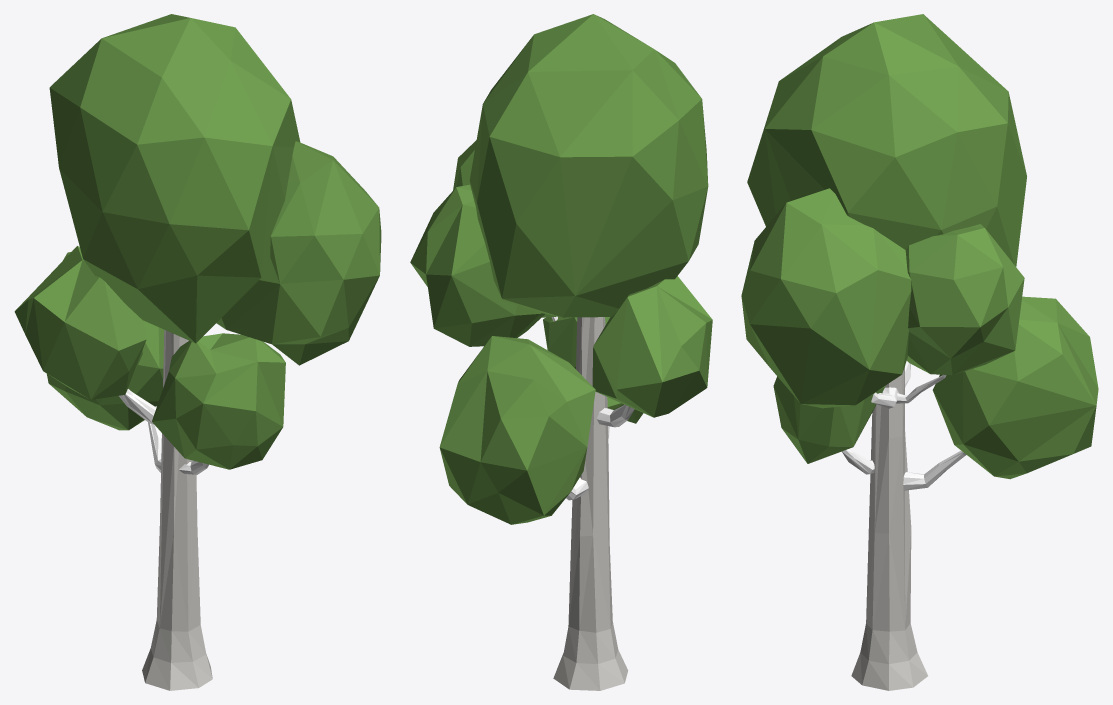
Rendered from tree_n4.glb.
3 views of the same model, side by side, from view 1: azimuth 30°, elevation 25°; view 2: azimuth 150°, elevation 25°; view 3: azimuth 270°, elevation 25° (orthographic).
Parts seen in each view (by area): view 1: Object_20, Object_16, Object_18; view 2: Object_20, Object_16, Object_18; view 3: Object_20, Object_16, Object_18.
Part boxes in pixels (x1,y1,x2,y2): Object_20: [14, 14, 381, 469]; Object_16: [142, 330, 212, 690]; Object_18: [119, 389, 208, 474]; Object_20: [410, 14, 712, 524]; Object_16: [553, 317, 628, 690]; Object_18: [551, 316, 634, 500]; Object_20: [741, 14, 1098, 479]; Object_16: [851, 367, 927, 690]; Object_18: [841, 361, 966, 490].
Bounding box in the file's own units: 5.14 × 11 × 5.43.
